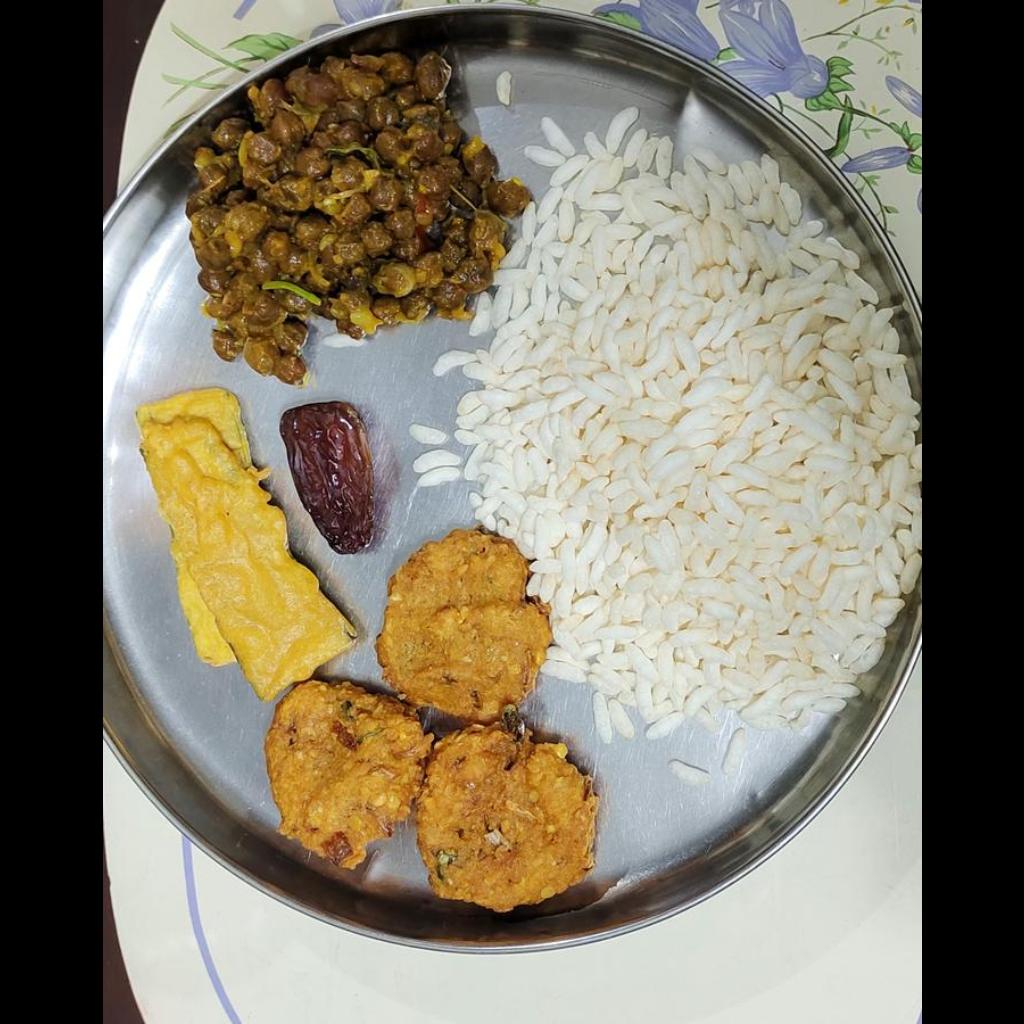beguni: (138, 386, 363, 704)
chola: (188, 54, 507, 372)
dates: (279, 398, 385, 542)
peyaju: (265, 531, 611, 903)
puffed-rice: (470, 113, 920, 738)
